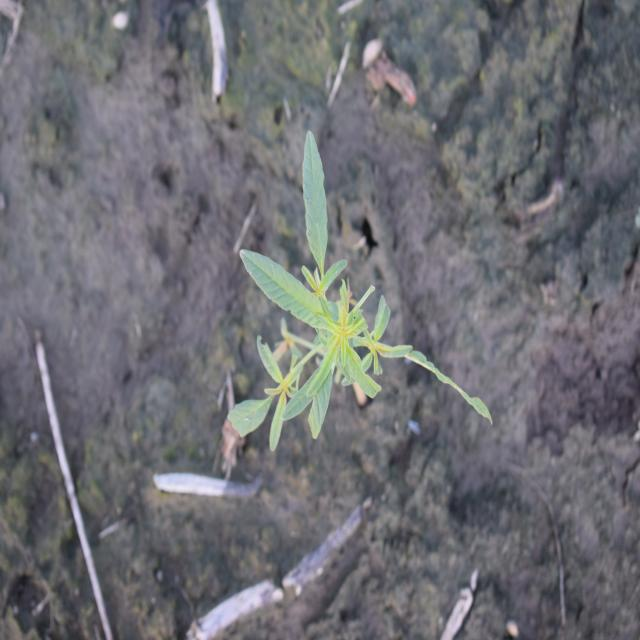Waterhemp: (224, 129, 495, 455)
